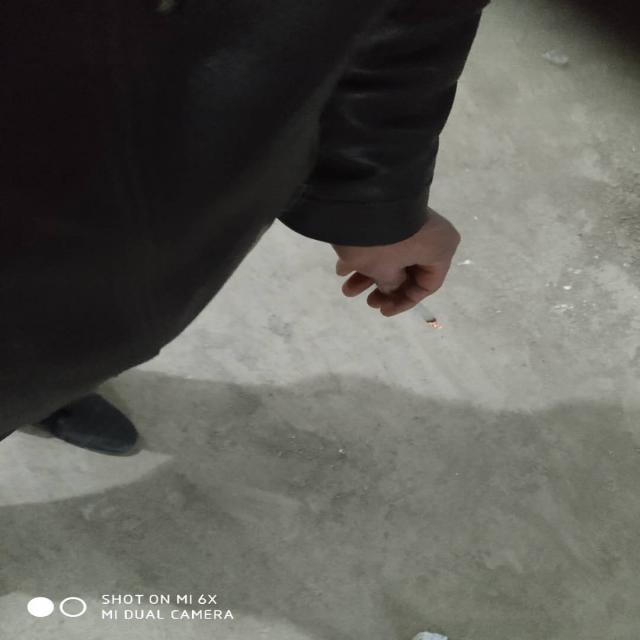smoke: (386, 284, 449, 332)
